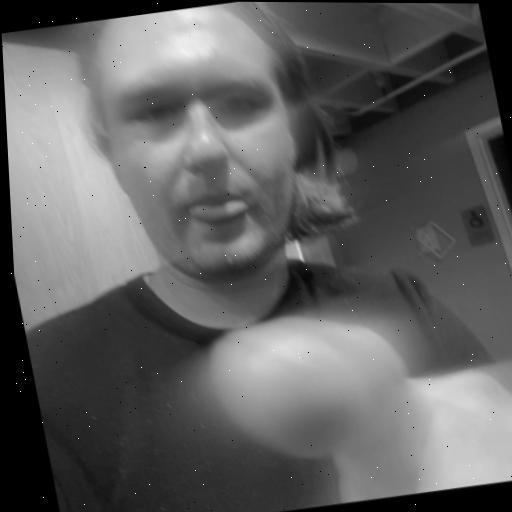mask: (58, 0, 385, 324)
